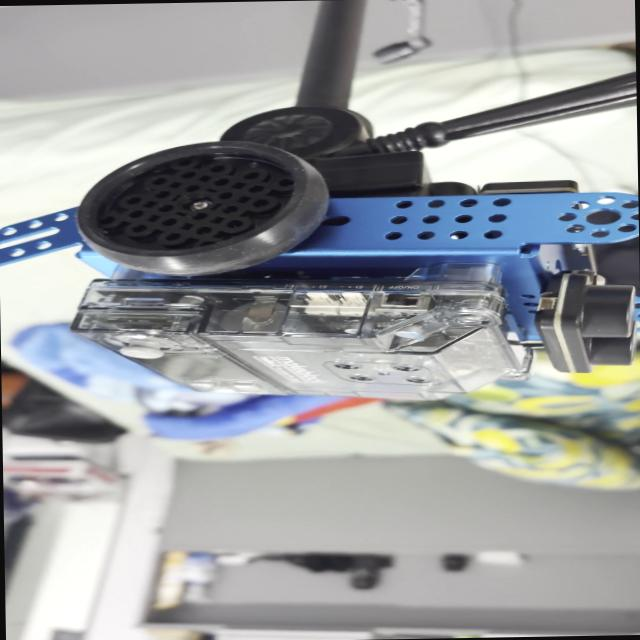mbot-detection: (0, 129, 640, 414)
